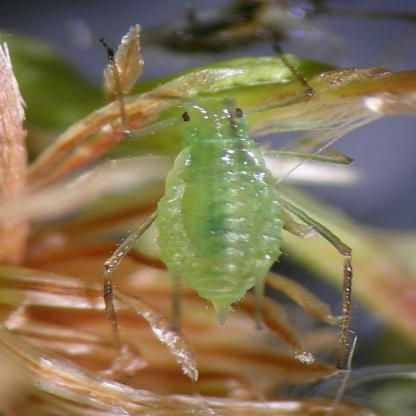uroleucon compositae: (98, 36, 355, 347)
